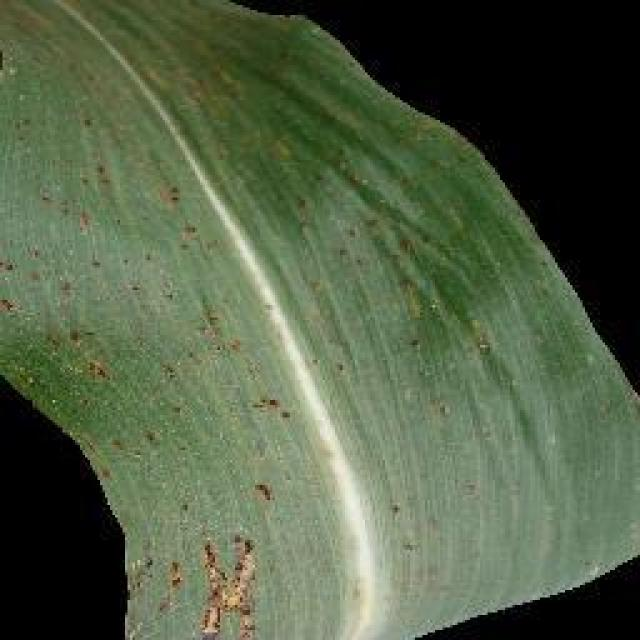Corn Common Rust: (3, 140, 615, 550)
